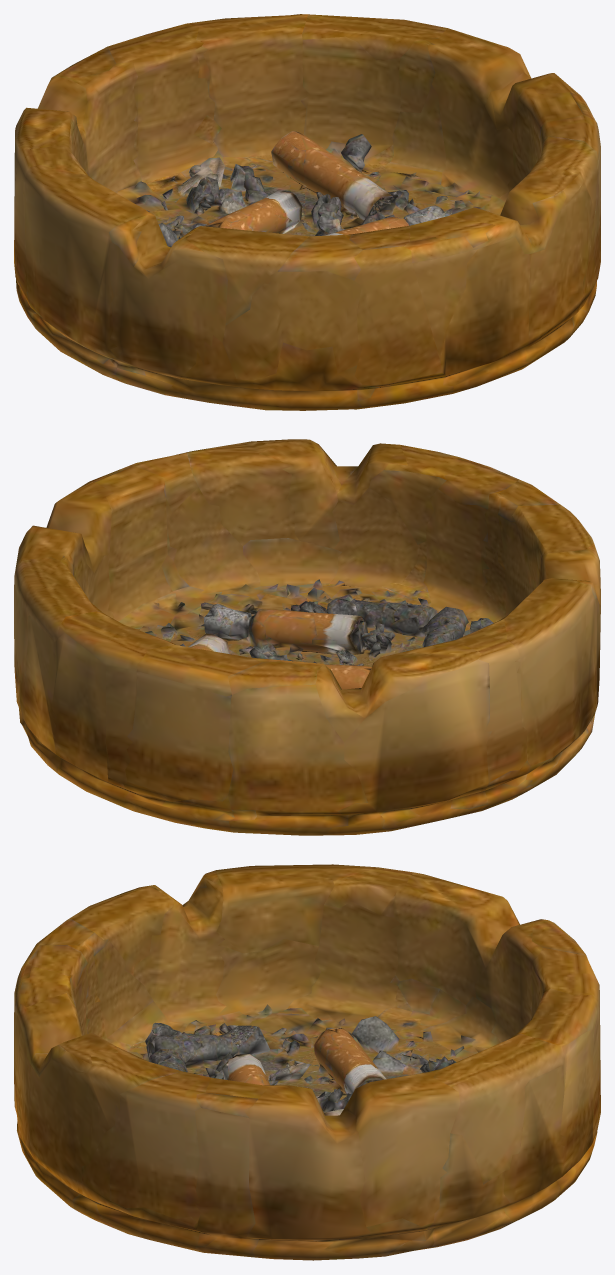
Rendered from mobile.glb.
3 views of the same model, one above another, from view 1: azimuth 30°, elevation 25°; view 2: azimuth 150°, elevation 25°; view 3: azimuth 270°, elevation 25° (orthographic).
Parts seen in each view (by area): view 1: d-ashtray; view 2: d-ashtray; view 3: d-ashtray.
Boxes of the visible parts, x1,y1,x2,y2 form: d-ashtray: (14,14,600,410); d-ashtray: (14,439,600,835); d-ashtray: (14,864,600,1260).
Bounding box in the file's own units: 0.1804 × 0.0554 × 0.1807.
1 material, 1 textured.
